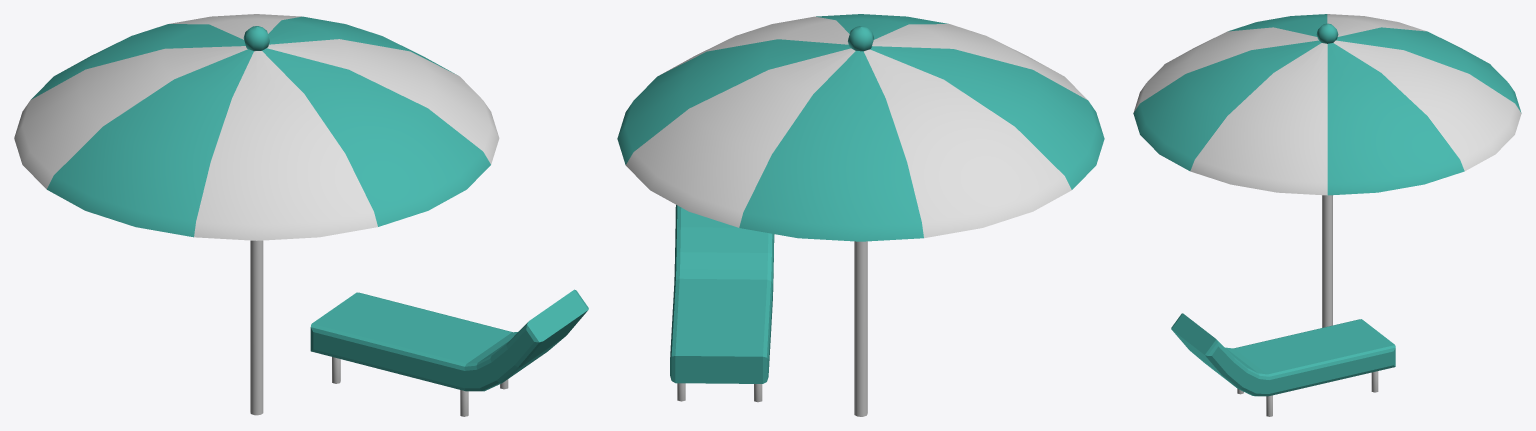
File: guarda_sol_2.glb
3 views of the same model, side by side, from view 1: azimuth 30°, elevation 25°; view 2: azimuth 150°, elevation 25°; view 3: azimuth 270°, elevation 25° (orthographic). The views are drawn at different scales.
Visible parts, largest first — view 1: guarda_sol_2_corpo; view 2: guarda_sol_2_corpo; view 3: guarda_sol_2_corpo.
Part boxes in pixels (left/top/right/bottom): guarda_sol_2_corpo: left=14, top=14, right=588, bottom=416; guarda_sol_2_corpo: left=617, top=14, right=1104, bottom=416; guarda_sol_2_corpo: left=1133, top=14, right=1521, bottom=416.
Bounding box in the file's own units: 3.96 × 3.12 × 3.56.
